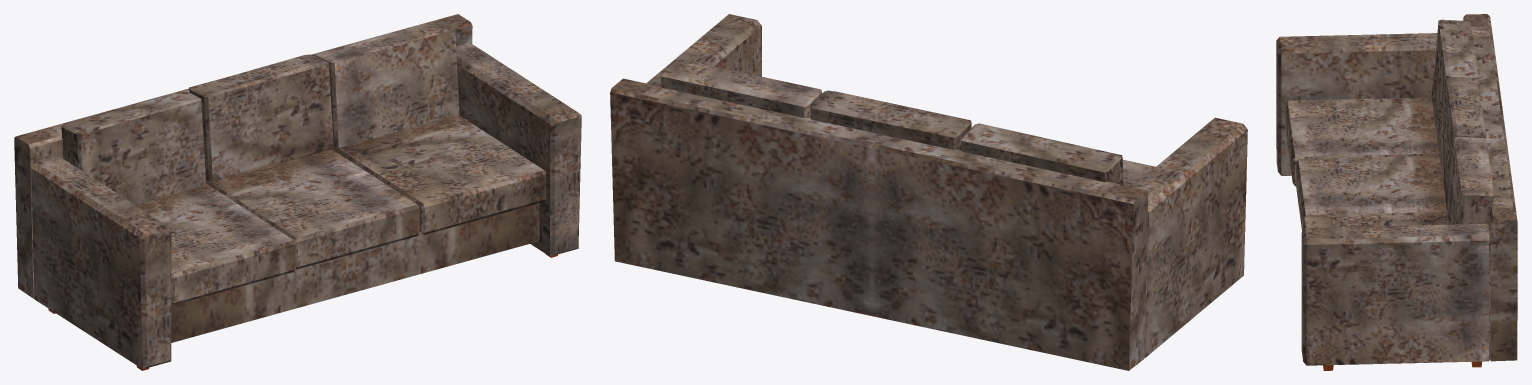
Rendered from couch_large_pattern.fbx.
3 renders of one model, left to right at view 1: azimuth 30°, elevation 25°; view 2: azimuth 150°, elevation 25°; view 3: azimuth 270°, elevation 25°, orthographic. The views are drawn at different scales.
Visible parts, largest first — view 1: couch_large_pattern; view 2: couch_large_pattern; view 3: couch_large_pattern.
Boxes of the visible parts, x1,y1,x2,y2 form: couch_large_pattern: (14,14,581,370); couch_large_pattern: (610,14,1247,370); couch_large_pattern: (1276,14,1517,370).
Size of the model in its own units: 323 by 119 by 156.
